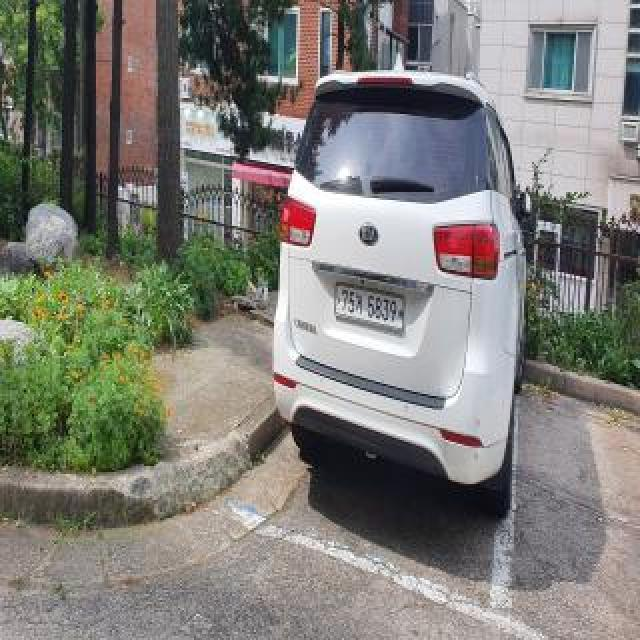car: (268, 66, 549, 541)
illegal_plate: (335, 284, 405, 339)
